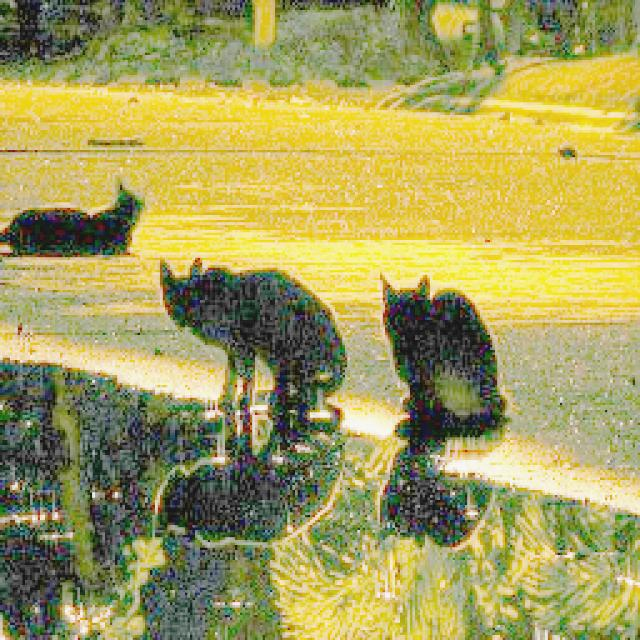cat: (150, 249, 359, 441), (375, 264, 513, 454), (0, 152, 156, 278)
